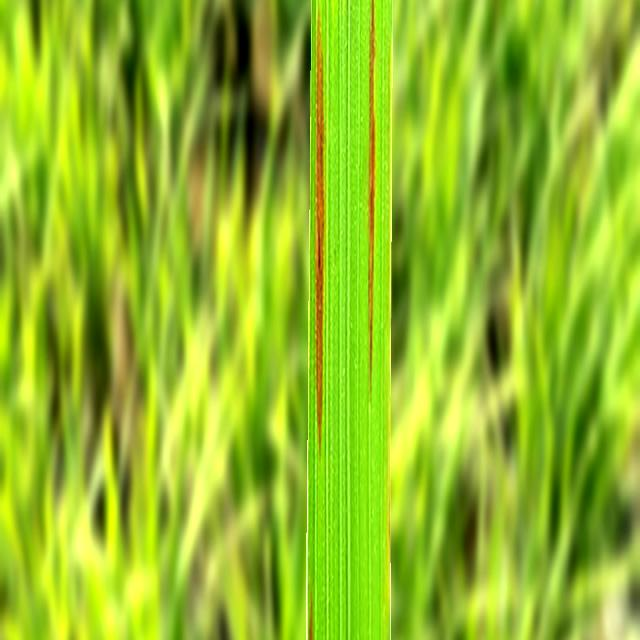NBS: (315, 11, 324, 450), (368, 0, 375, 387)
